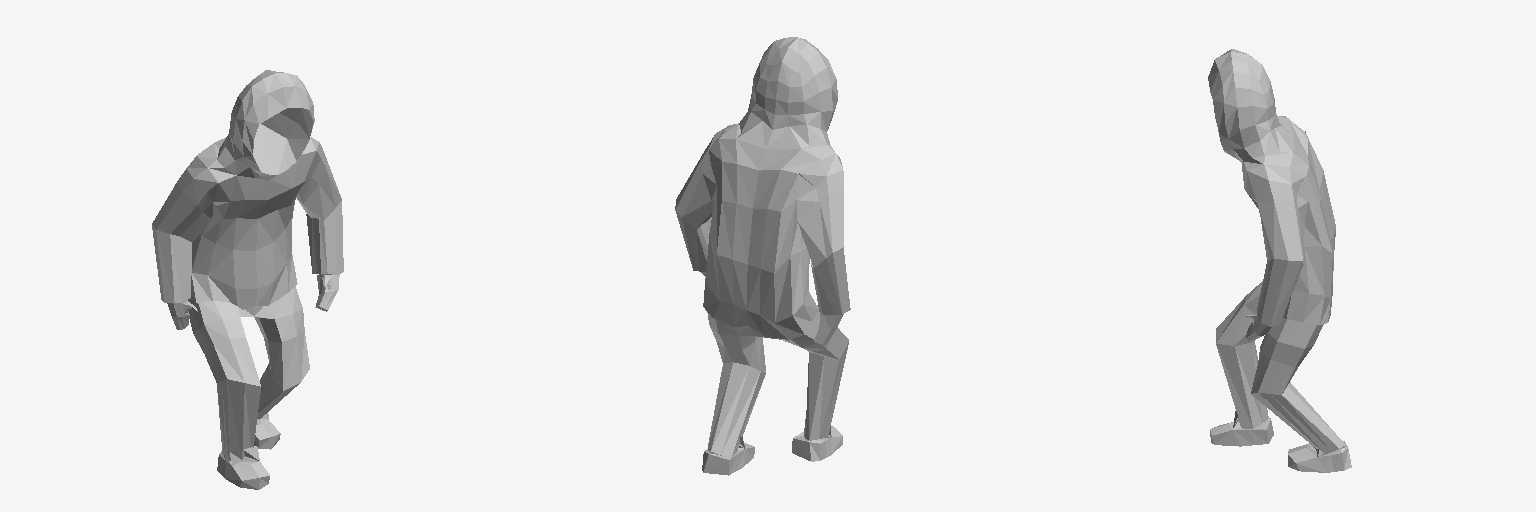
File: Shadowmanv_000041.obj
The picture shows the model from 3 angles: view 1: azimuth 30°, elevation 25°; view 2: azimuth 150°, elevation 25°; view 3: azimuth 270°, elevation 25°; orthographic projection.
Parts seen in each view (by area): view 1: Cube.000; view 2: Cube.000; view 3: Cube.000.
Part boxes in pixels (x1,y1,x2,y2): Cube.000: (152, 70, 343, 489); Cube.000: (675, 37, 850, 475); Cube.000: (1208, 49, 1351, 472).
Bounding box in the file's own units: 4.91 × 10.8 × 3.49.